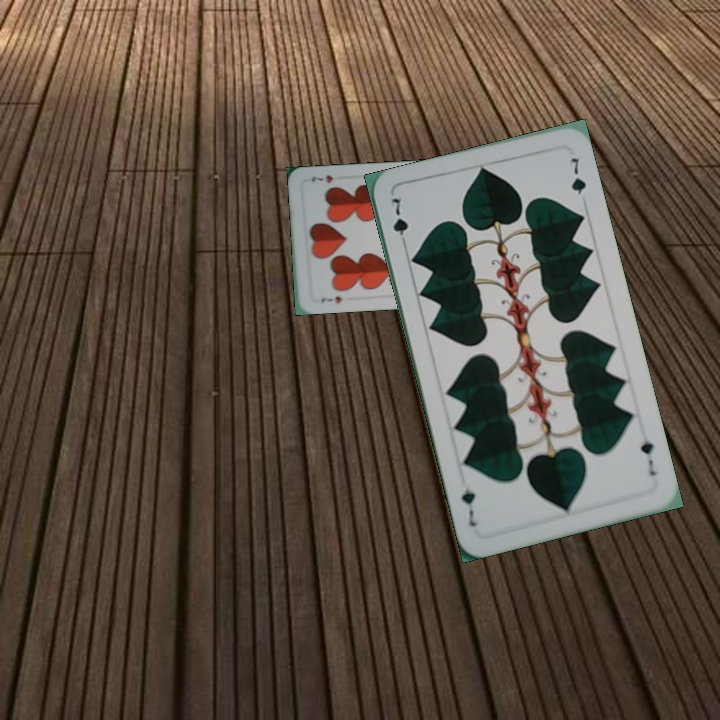G7: (387, 193, 411, 251), (636, 436, 659, 478)
H7: (317, 292, 344, 306)
